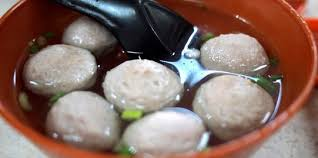bakso: (33, 10, 278, 145)
